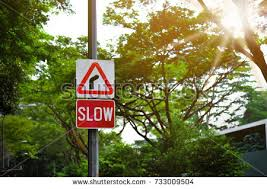Bend_to_right: (76, 61, 112, 96)
